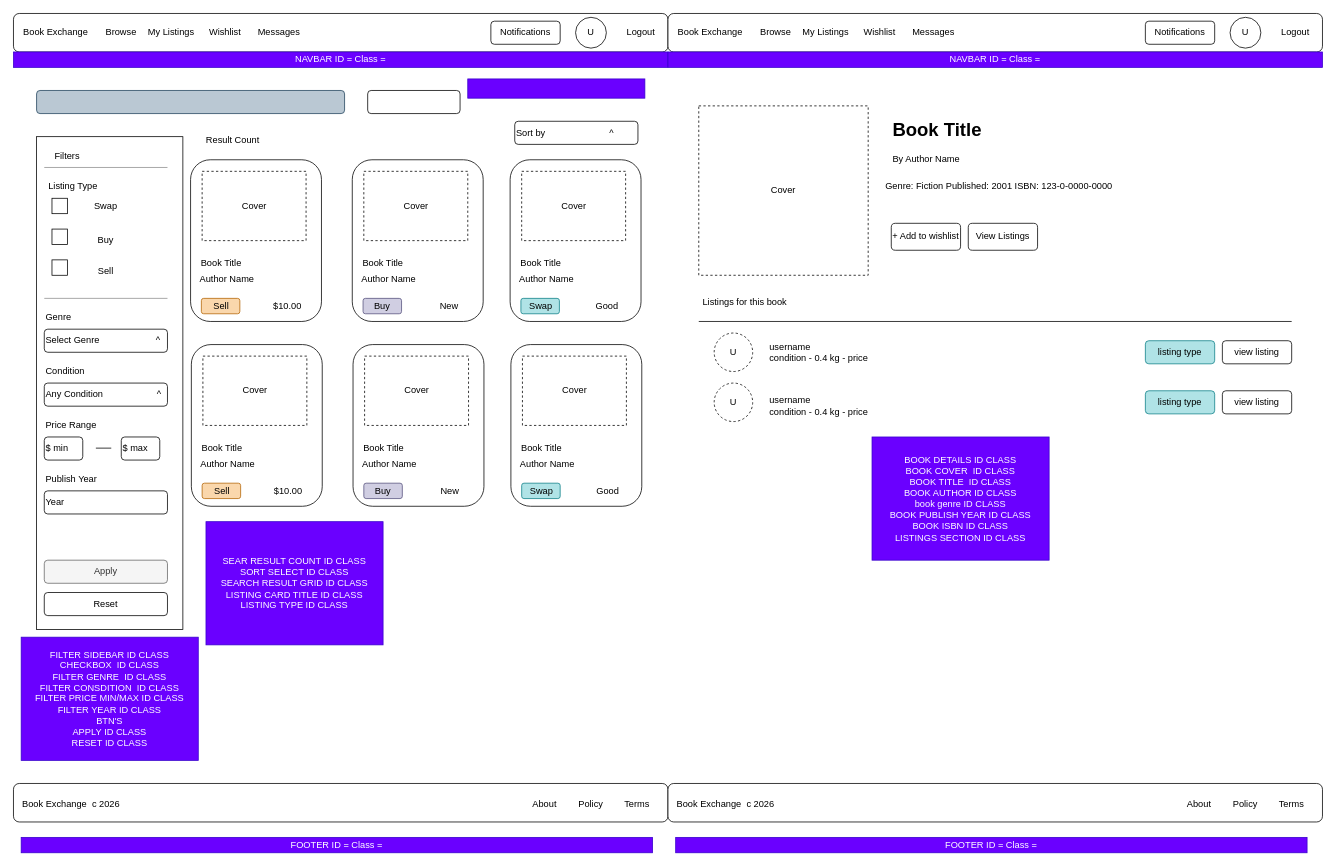
This 1336x866 diagram has some shape labels left out. The box of each missing label's shape, as (x1, y1, x2, y2) in pixels:
Search: (367, 90, 460, 114)
Search by title, author, or genre...: (36, 90, 345, 114)
SEARCH INPUT ID CLASS: (467, 78, 645, 98)
